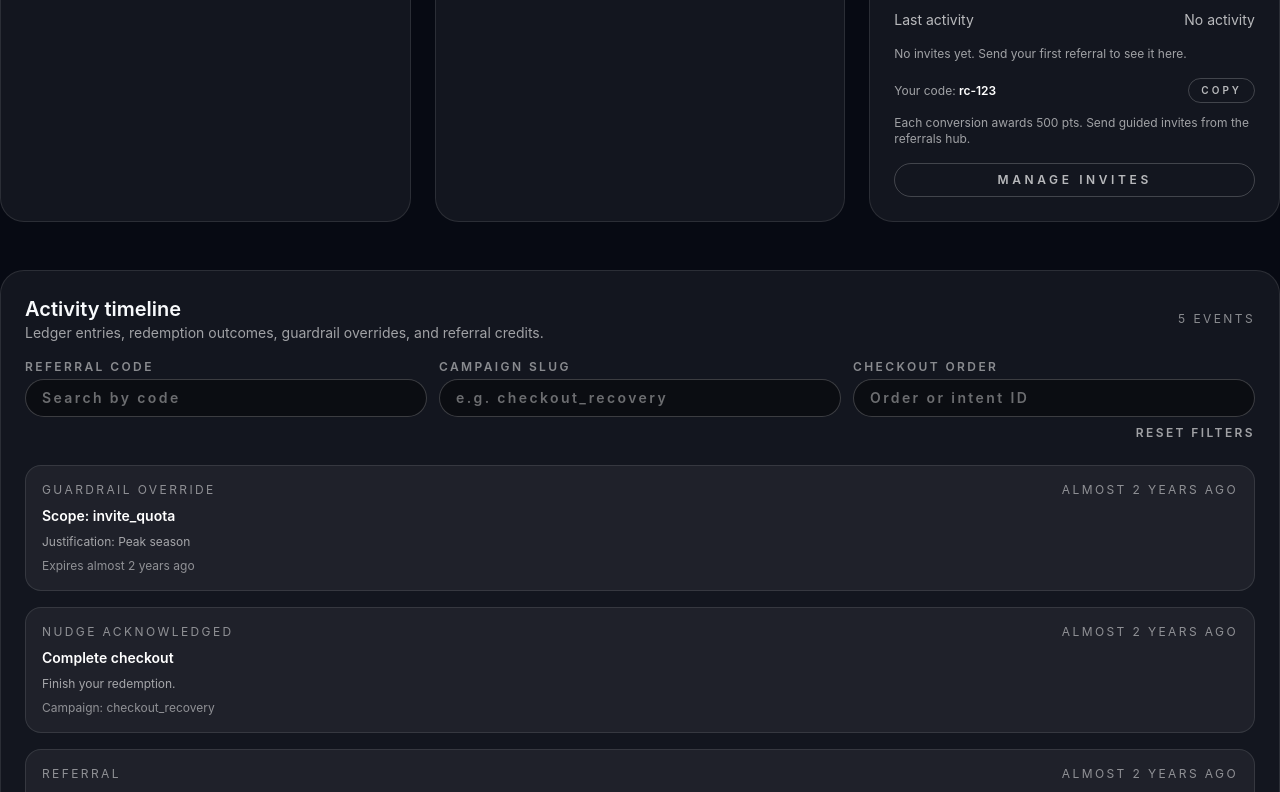
Test: filters timeline by referral code
The width and height of the screenshot is (1280, 792).
(page scrolled)
Expected: the text "Guardrail override" is shown, 42,482 -> 216,498
Type "rc-123" into the field with placeholder "Search by code".
click(226, 398); type("rc-123")  # box 25,379 -> 427,417
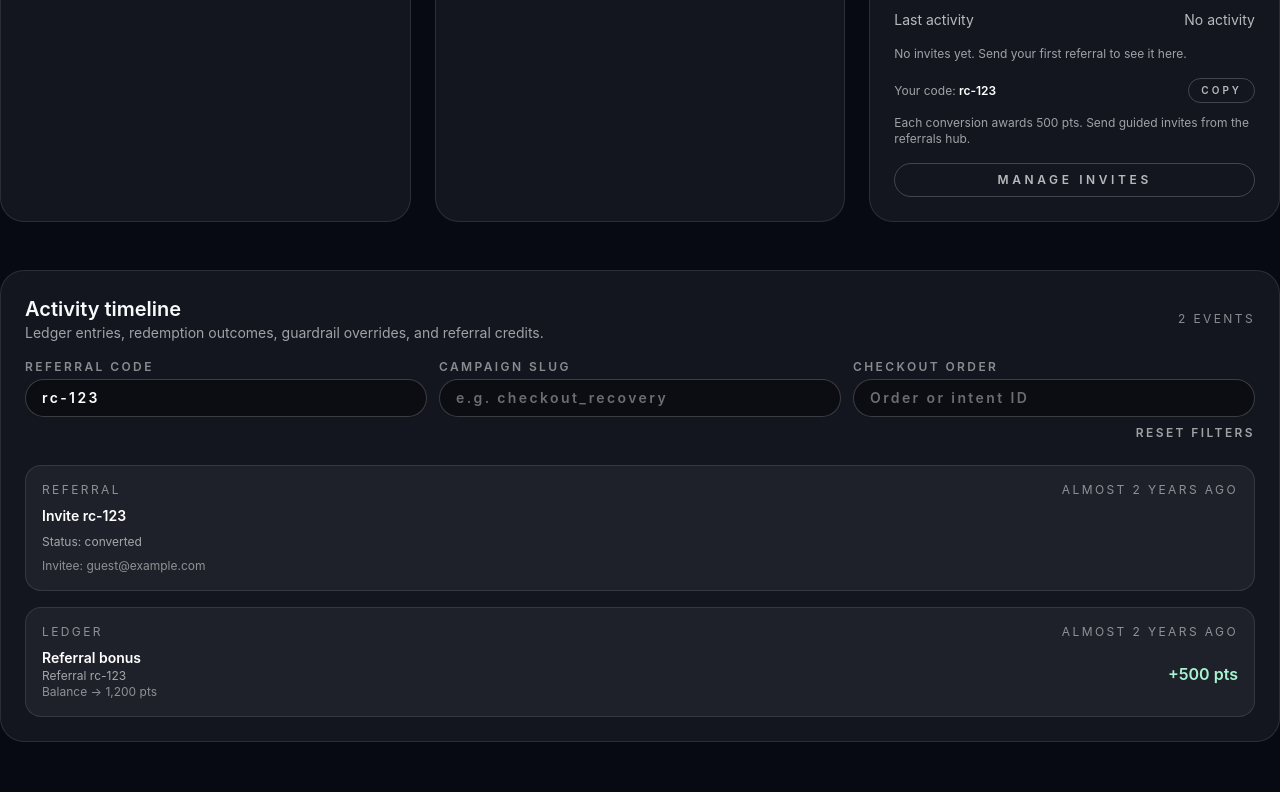
Expected: the text "Invite rc-123" is shown, 42,507 -> 126,524
Click the button "Reset filters".
click(1195, 433)  # box 1136,425 -> 1255,441
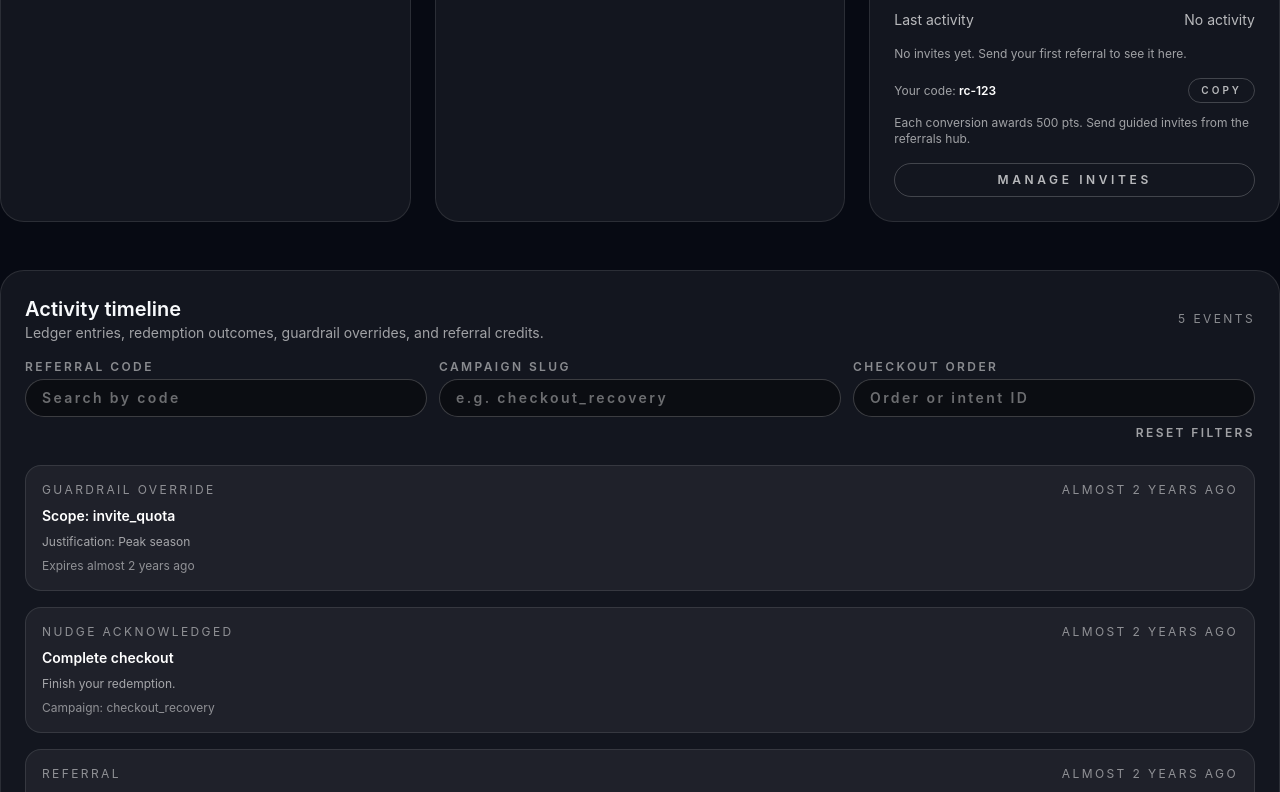
Expected: the text "Guardrail override" is shown, 42,482 -> 216,498
